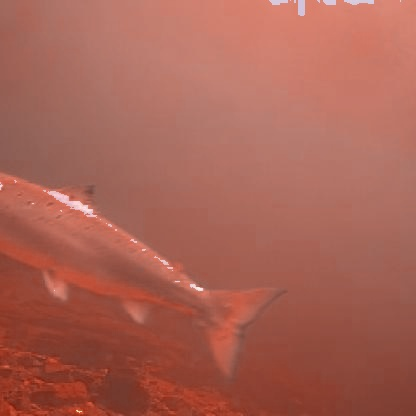salmon: (0, 170, 294, 382)
